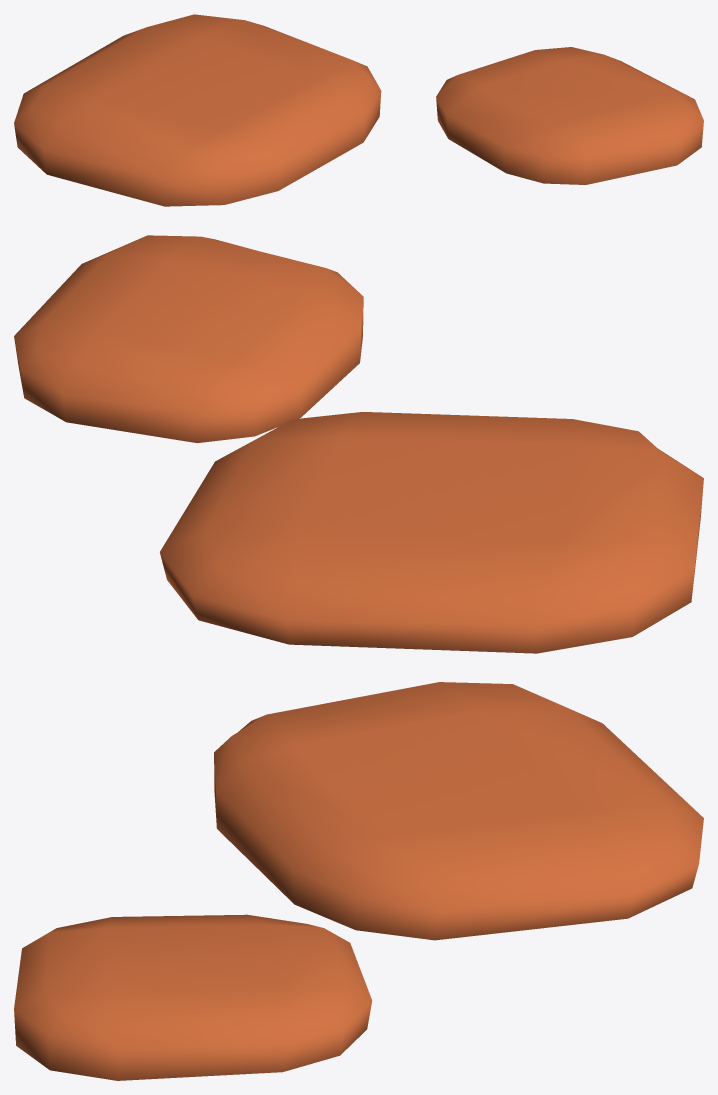
Rendered from rocks_2.glb.
3 renders of one model, top to bottom at view 1: azimuth 30°, elevation 25°; view 2: azimuth 150°, elevation 25°; view 3: azimuth 270°, elevation 25°, orthographic. The views are drawn at different scales.
Visible parts, largest first — view 1: rocks_2; view 2: rocks_2; view 3: rocks_2.
Part boxes in pixels (left/top/right/bottom): rocks_2: left=14, top=14, right=703, bottom=206; rocks_2: left=14, top=235, right=703, bottom=653; rocks_2: left=14, top=682, right=703, bottom=1080.
Size of the model in its own units: 1.37 by 0.1115 by 1.11.
Materials: 1 (1 with a texture image).
